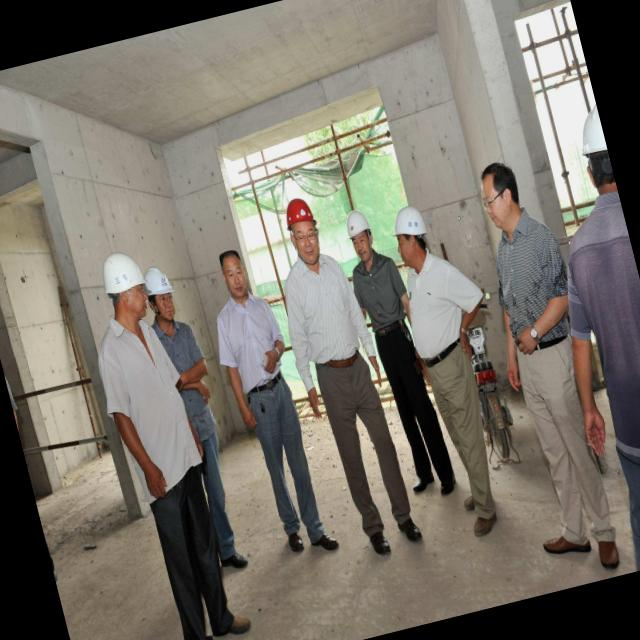helmet: (569, 100, 610, 168), (99, 248, 144, 294), (386, 202, 431, 240), (276, 195, 321, 232), (140, 258, 177, 302), (341, 208, 370, 238)
no-helmet: (472, 151, 516, 200), (214, 243, 248, 281)
no-vest: (546, 190, 640, 457), (96, 308, 206, 507), (486, 218, 572, 344), (287, 250, 370, 377), (398, 258, 482, 376), (217, 288, 295, 398), (158, 326, 220, 445), (352, 253, 412, 337)
